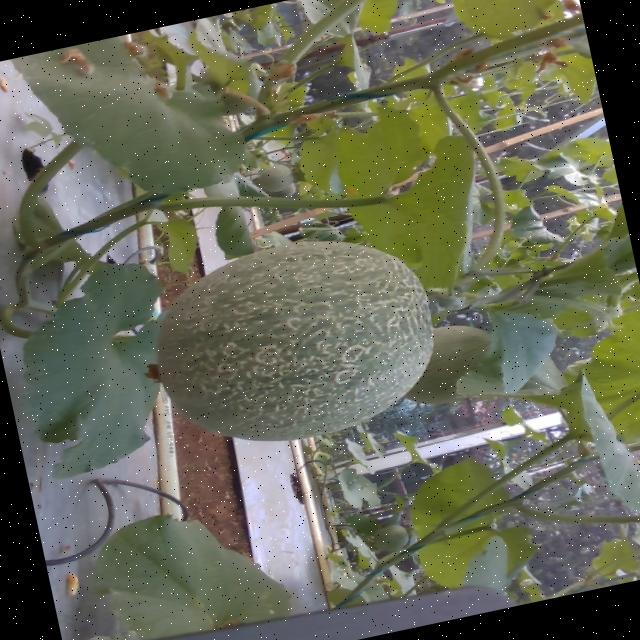melon: (155, 242, 432, 441)
